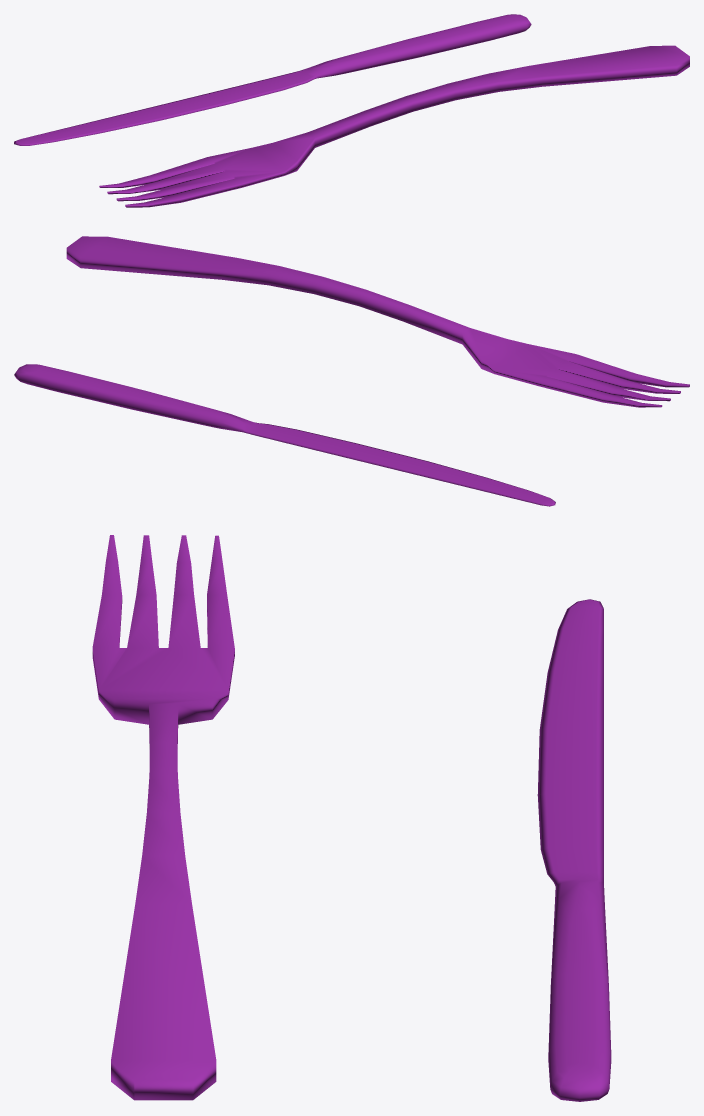
Rendered from Fork&Knife.fbx.
The picture shows the model from 3 angles, top to bottom: view 1: azimuth 30°, elevation 25°; view 2: azimuth 150°, elevation 25°; view 3: azimuth 270°, elevation 25°; orthographic projection. The views are drawn at different scales.
Visible parts, largest first — view 1: Fork, Knife; view 2: Fork, Knife; view 3: Fork, Knife.
Boxes of the visible parts, <box> form: Fork: <box>99,45,689,207</box>; Knife: <box>14,14,531,145</box>; Fork: <box>66,236,689,407</box>; Knife: <box>14,364,555,506</box>; Fork: <box>92,535,234,1100</box>; Knife: <box>537,599,611,1101</box>.
Bounding box in the file's own units: 7 × 0.7073 × 2.76.
